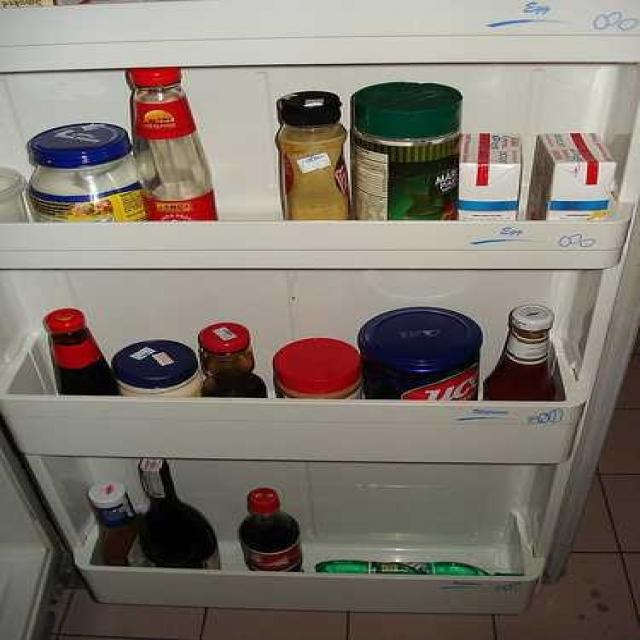refrigerator: (0, 0, 634, 611)
